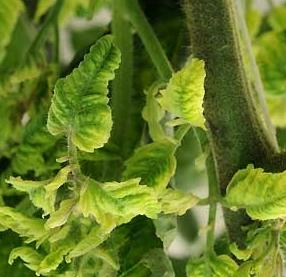Tomato leaf yellow virus: (47, 30, 136, 167), (154, 29, 218, 152), (87, 163, 194, 221), (225, 166, 286, 231)
